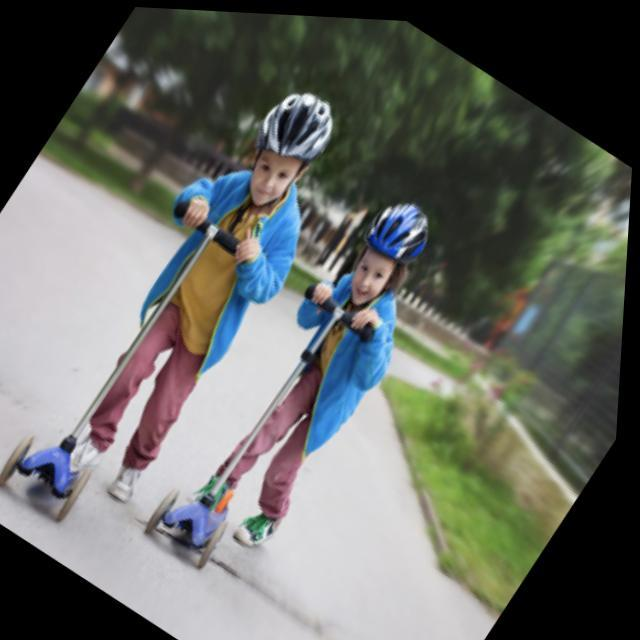Helmet: (245, 85, 339, 209), (339, 198, 437, 315)
